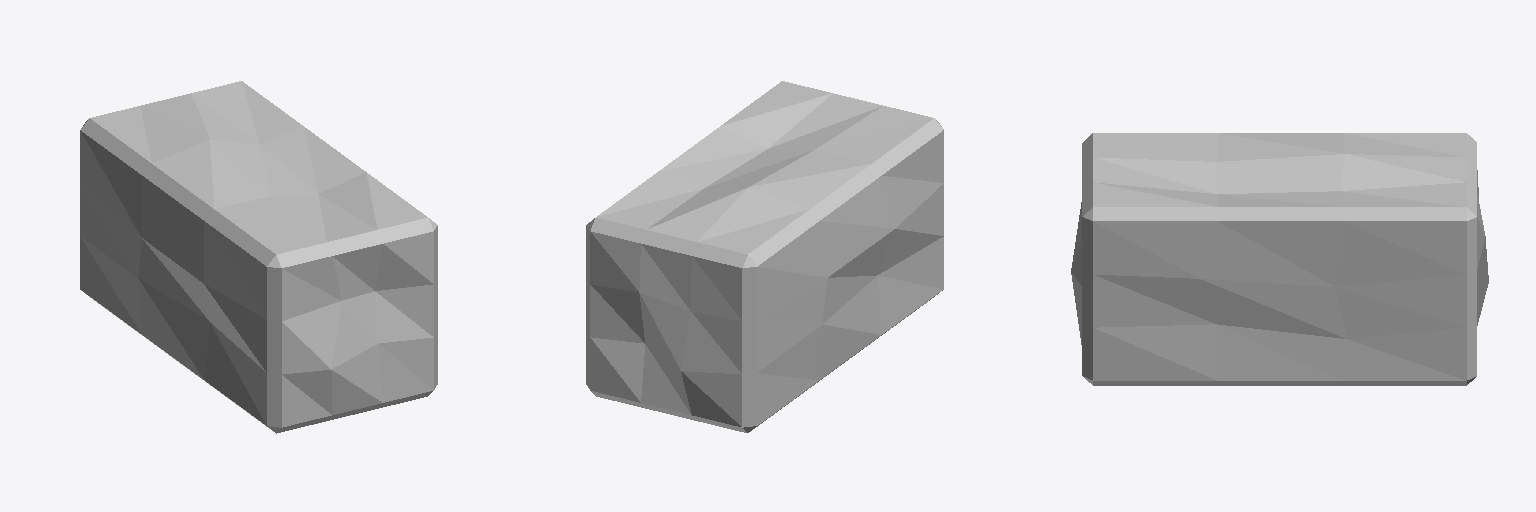
Rendered from rock_slab.obj.
3 views of the same model, side by side, from view 1: azimuth 30°, elevation 25°; view 2: azimuth 150°, elevation 25°; view 3: azimuth 270°, elevation 25° (orthographic).
Parts seen in each view (by area): view 1: Cube_Cube.001; view 2: Cube_Cube.001; view 3: Cube_Cube.001.
Part boxes in pixels (bbox=[...]): Cube_Cube.001: bbox=[80, 81, 437, 433]; Cube_Cube.001: bbox=[586, 81, 943, 432]; Cube_Cube.001: bbox=[1071, 133, 1488, 385].
Size of the model in its own units: 1.05 by 1.07 by 2.12.